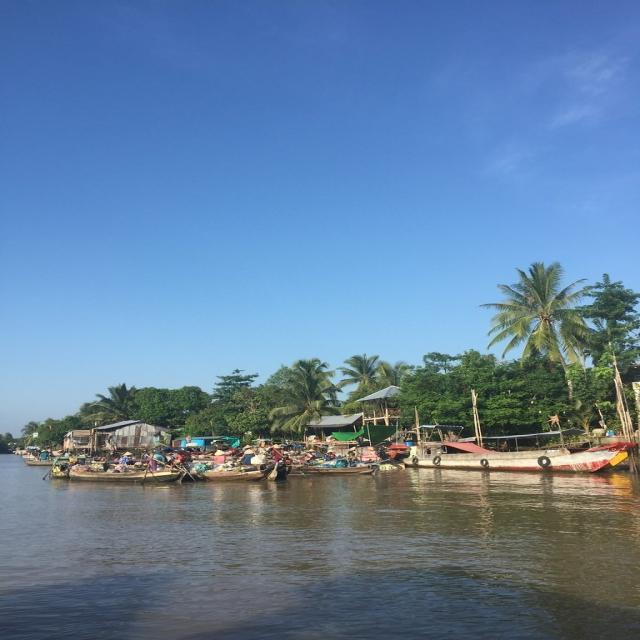boat: (406, 438, 615, 474), (71, 463, 185, 482), (294, 460, 383, 478), (196, 463, 275, 478)
